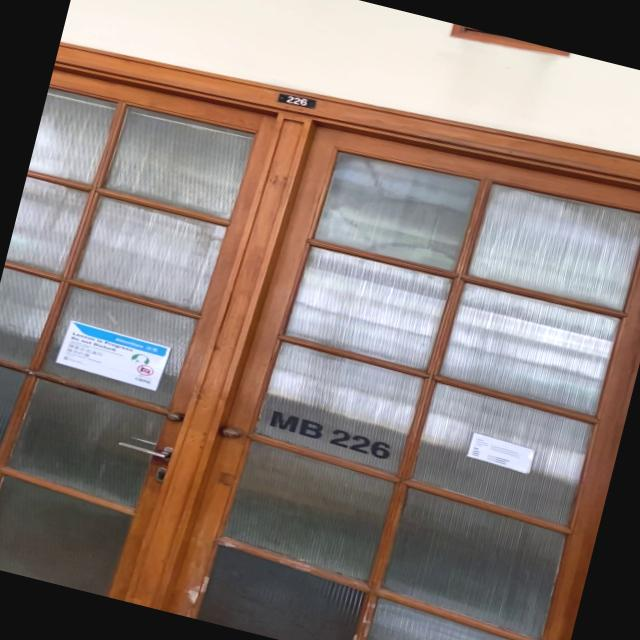room226: (272, 89, 320, 112)
room226Window: (265, 406, 397, 462)
